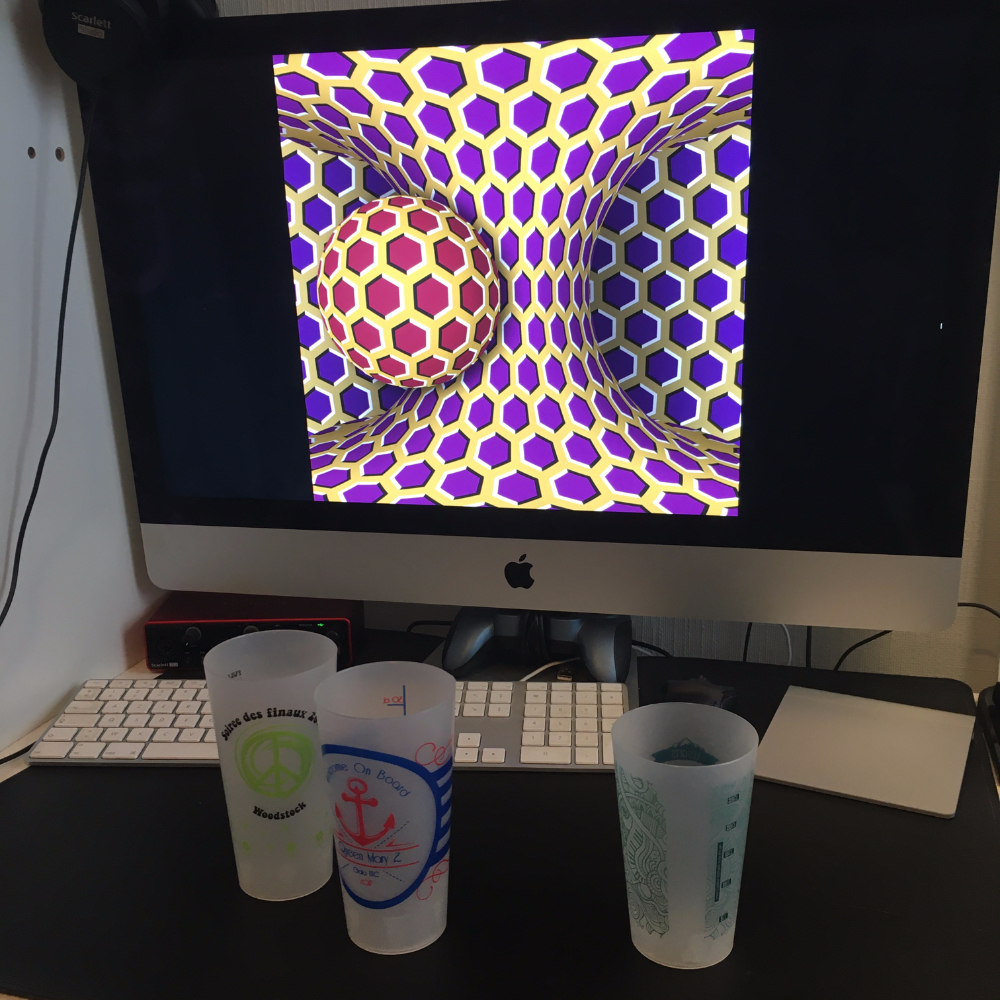ecocup: (313, 660, 457, 955), (612, 702, 760, 969), (203, 629, 337, 900)
